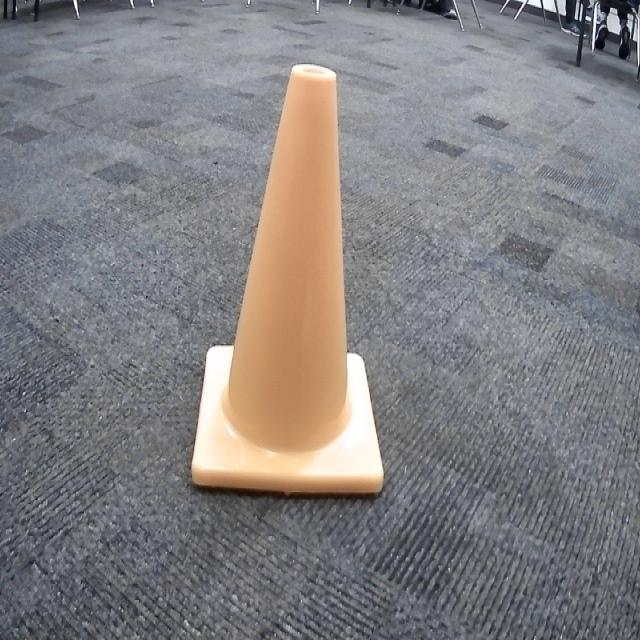cone: (184, 56, 385, 502)
